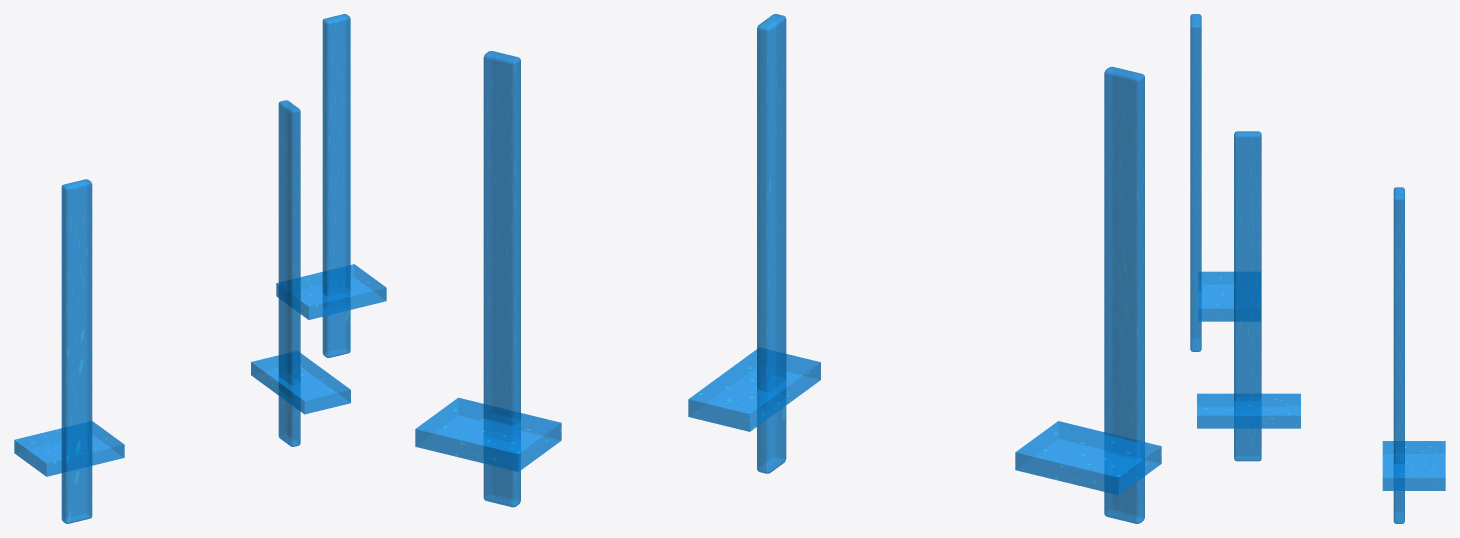
The model's file is Level9Dark.fbx.
The picture shows the model from 3 angles, left to right: view 1: azimuth 30°, elevation 25°; view 2: azimuth 150°, elevation 25°; view 3: azimuth 270°, elevation 25°; orthographic projection. The views are drawn at different scales.
Visible parts, largest first — view 1: Water3, Water5, Water7, Water8, Water4, Water6; view 2: Water3, Water5, Water7, Water4, Water6, Water8; view 3: Water7, Water3, Water5, Water8, Water6, Water4.
Part boxes in pixels (box(x1,y1,x2,y2)): Water3: box(61, 179, 92, 523); Water5: box(322, 14, 350, 357); Water7: box(278, 100, 300, 446); Water8: box(251, 353, 350, 414); Water4: box(14, 421, 124, 476); Water6: box(276, 264, 386, 319); Water3: box(1104, 66, 1144, 523); Water5: box(483, 51, 520, 507); Water7: box(757, 14, 786, 473); Water4: box(1015, 421, 1161, 495); Water6: box(415, 397, 561, 471); Water8: box(688, 349, 820, 431); Water7: box(1234, 131, 1261, 461); Water3: box(1190, 14, 1201, 351); Water5: box(1393, 187, 1404, 523); Water8: box(1197, 393, 1300, 428); Water6: box(1382, 441, 1445, 490); Water4: box(1198, 271, 1233, 321).
Size of what is drawn, in the model's own units: 76.75 by 56.8 by 40.19.
